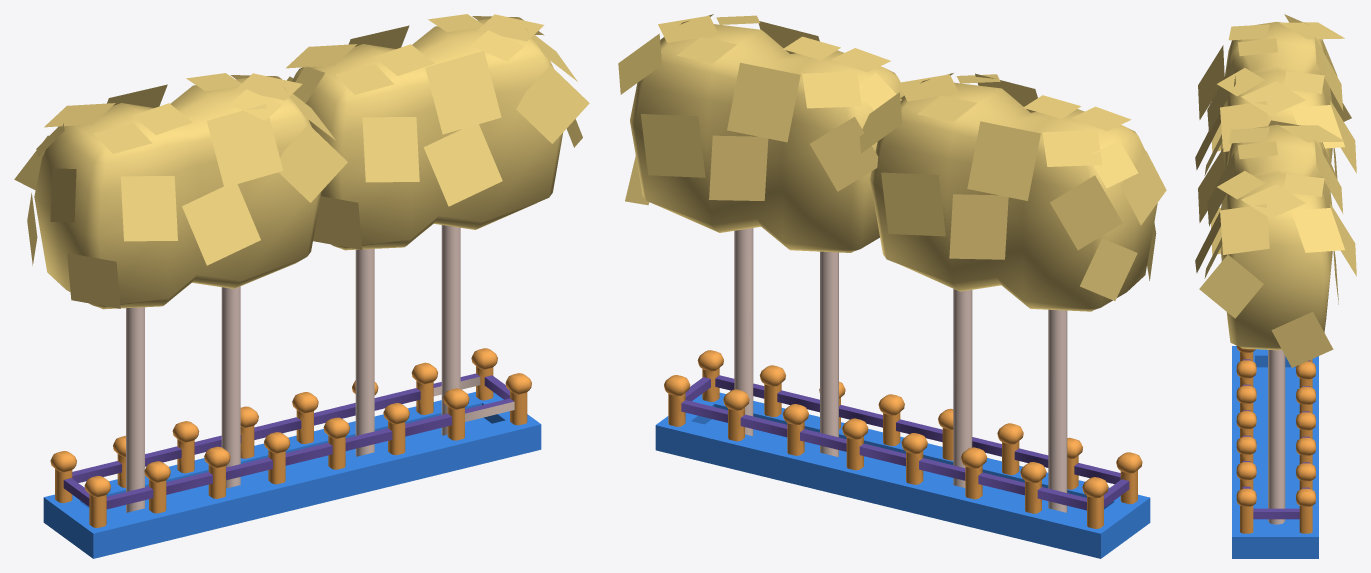
Rendered from Bush Tree.fbx.
The picture shows the model from 3 angles, left to right: view 1: azimuth 30°, elevation 25°; view 2: azimuth 150°, elevation 25°; view 3: azimuth 270°, elevation 25°; orthographic projection. The views are drawn at different scales.
Parts seen in each view (by area): view 1: Bush Tree; view 2: Bush Tree; view 3: Bush Tree.
Part boxes in pixels (<box>): Bush Tree: <box>14,14,589,558</box>; Bush Tree: <box>618,14,1166,558</box>; Bush Tree: <box>1195,14,1356,558</box>.
Size of the model in its own units: 297 by 226 by 91.86.
